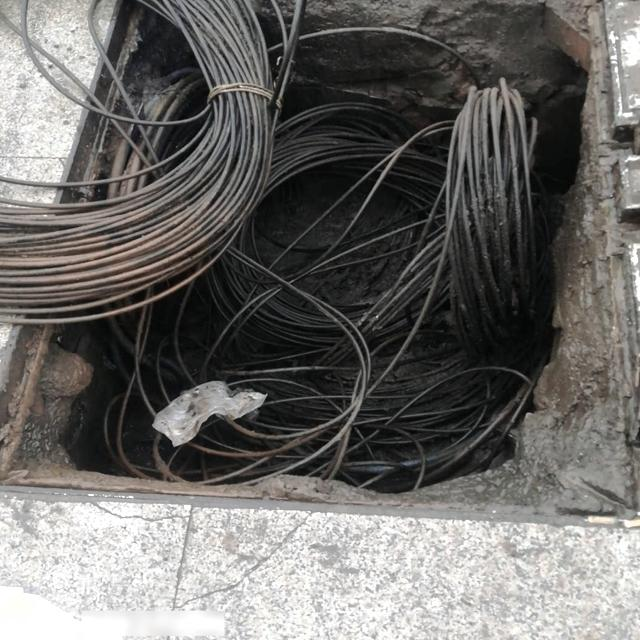lose: (16, 0, 640, 563)
